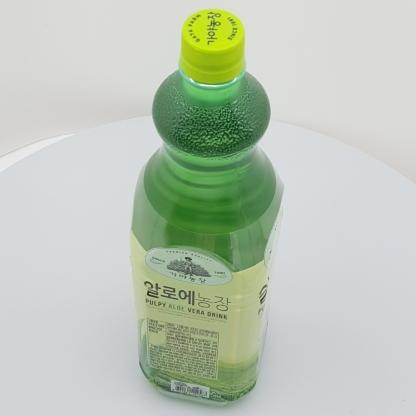-------1-5L: (130, 9, 284, 407)
